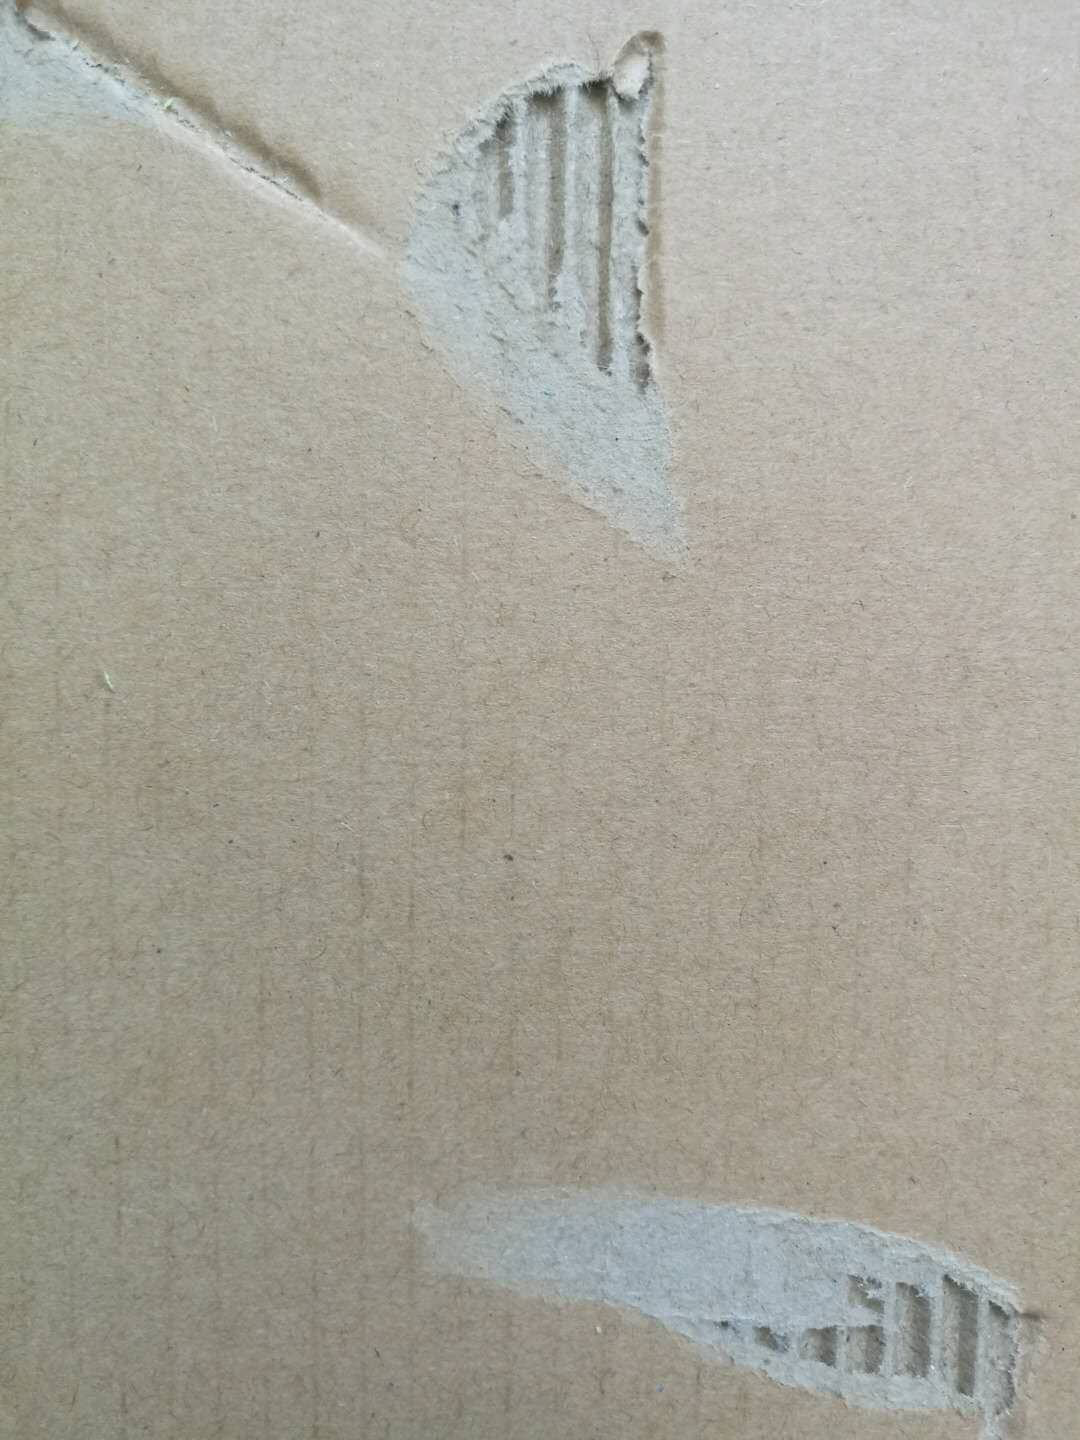defect: (380, 1138, 1063, 1440), (383, 19, 725, 621), (8, 2, 406, 296)
